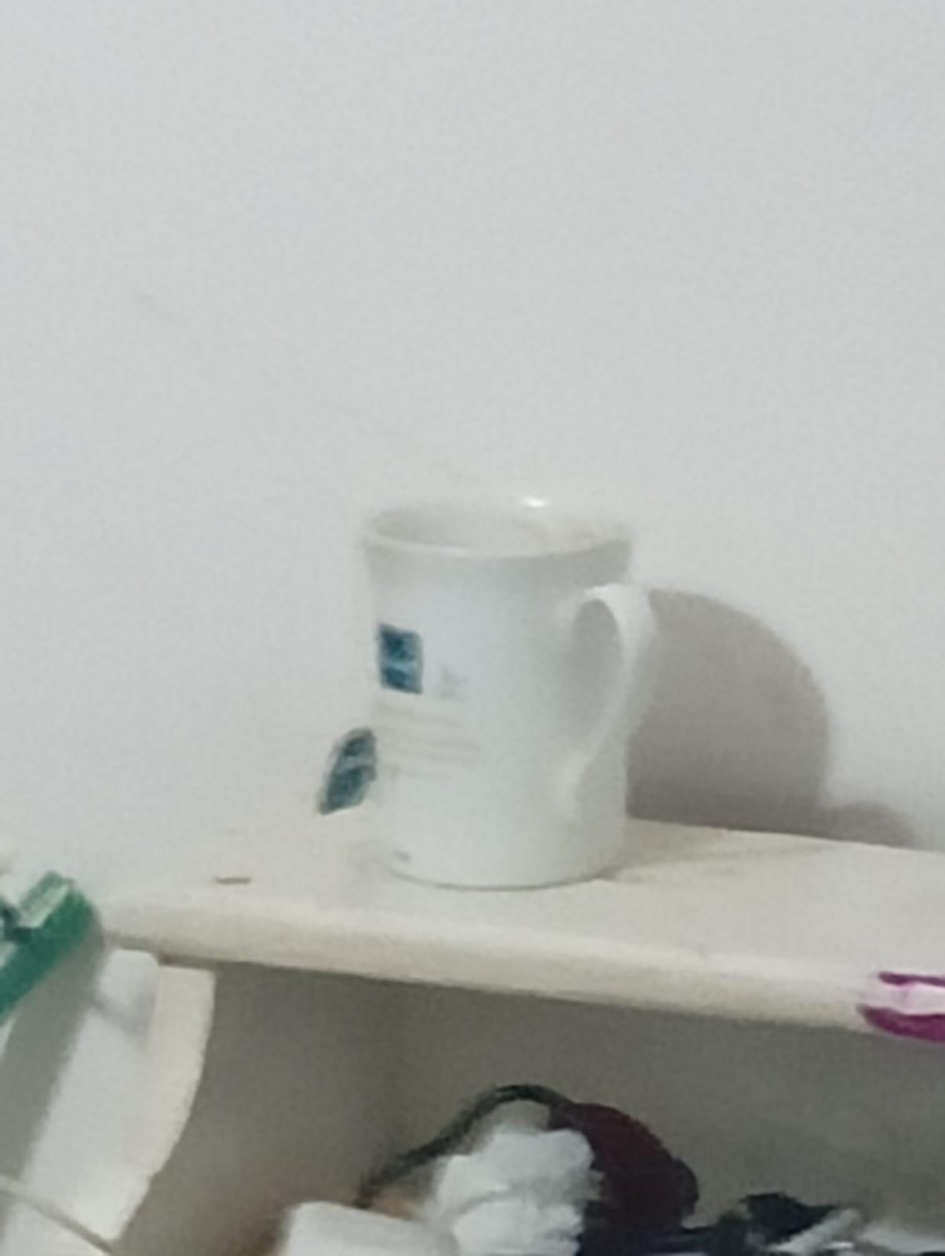cup: (364, 502, 654, 887)
